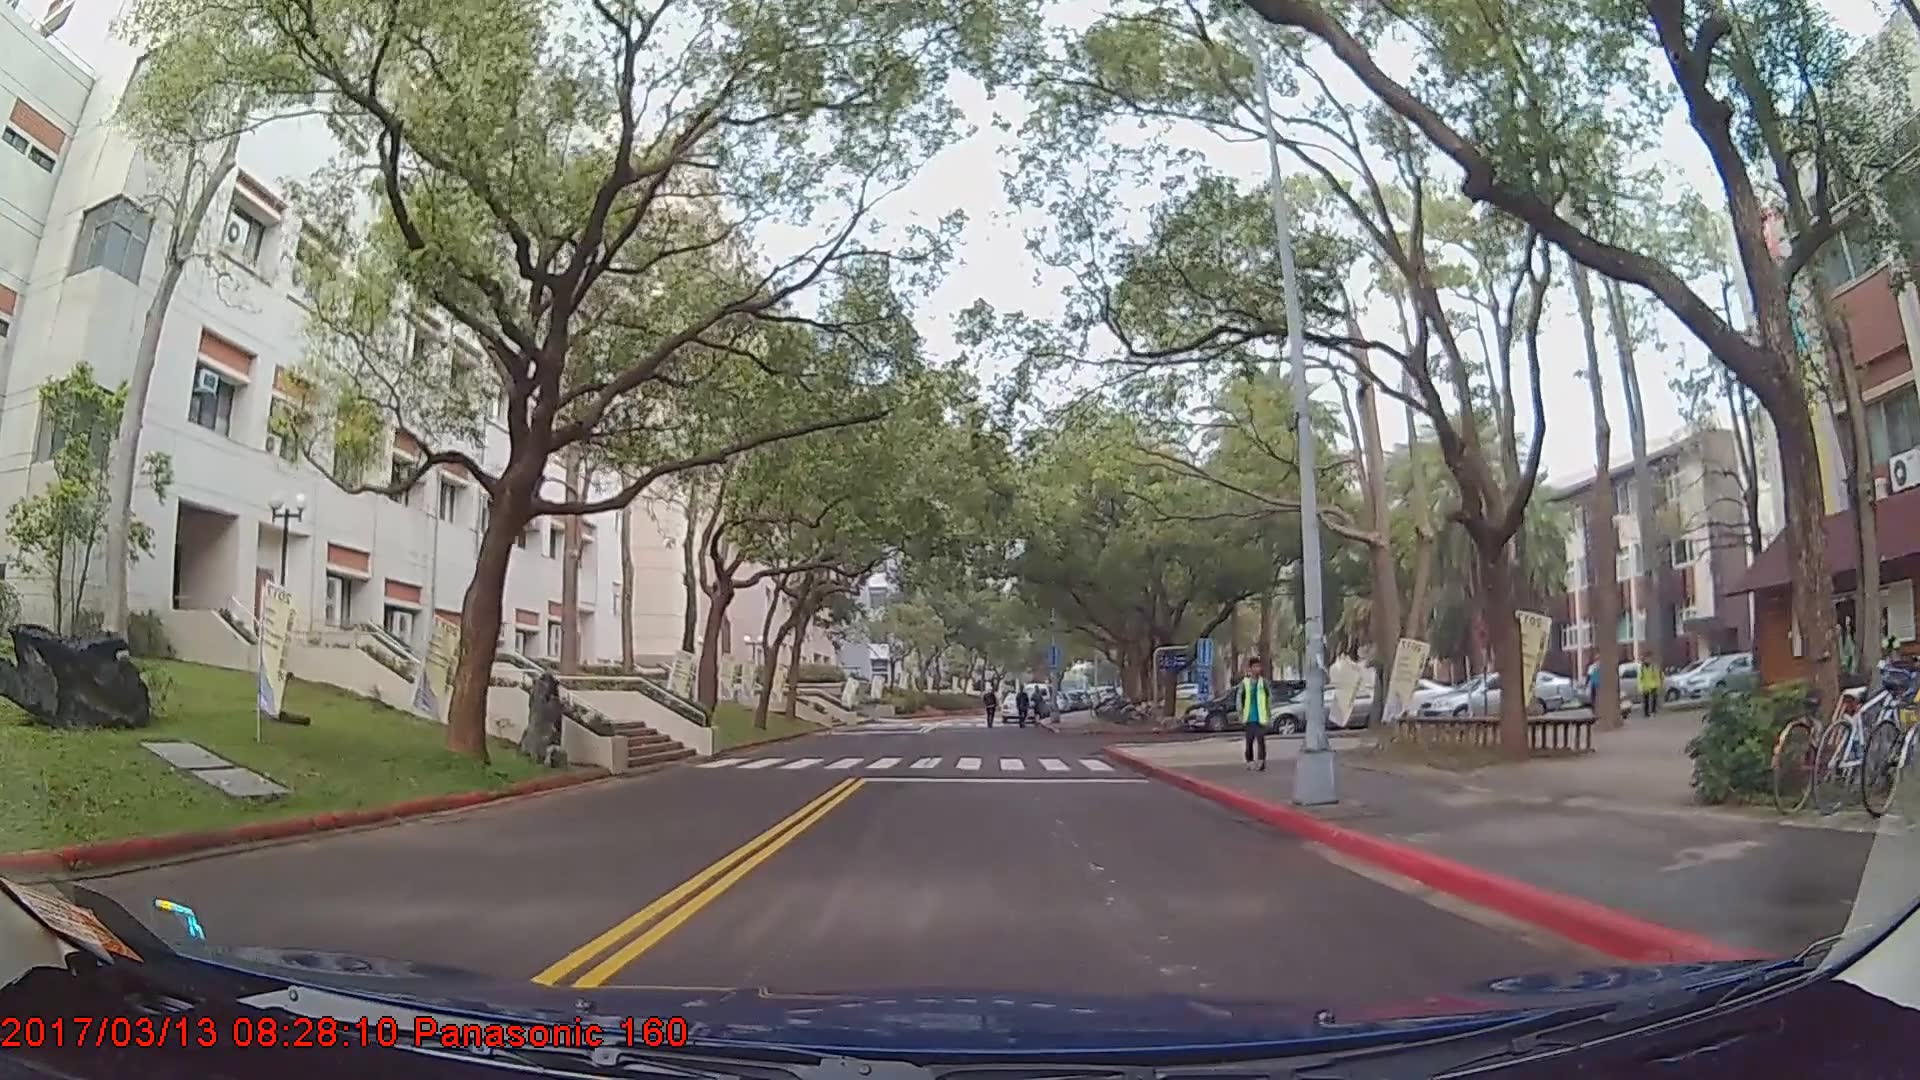pedestrian: (1237, 650, 1277, 766), (1638, 648, 1661, 714), (1015, 685, 1036, 729)
vehicle: (1416, 669, 1563, 728), (1262, 679, 1403, 734), (1186, 674, 1308, 730), (1681, 652, 1770, 697)
